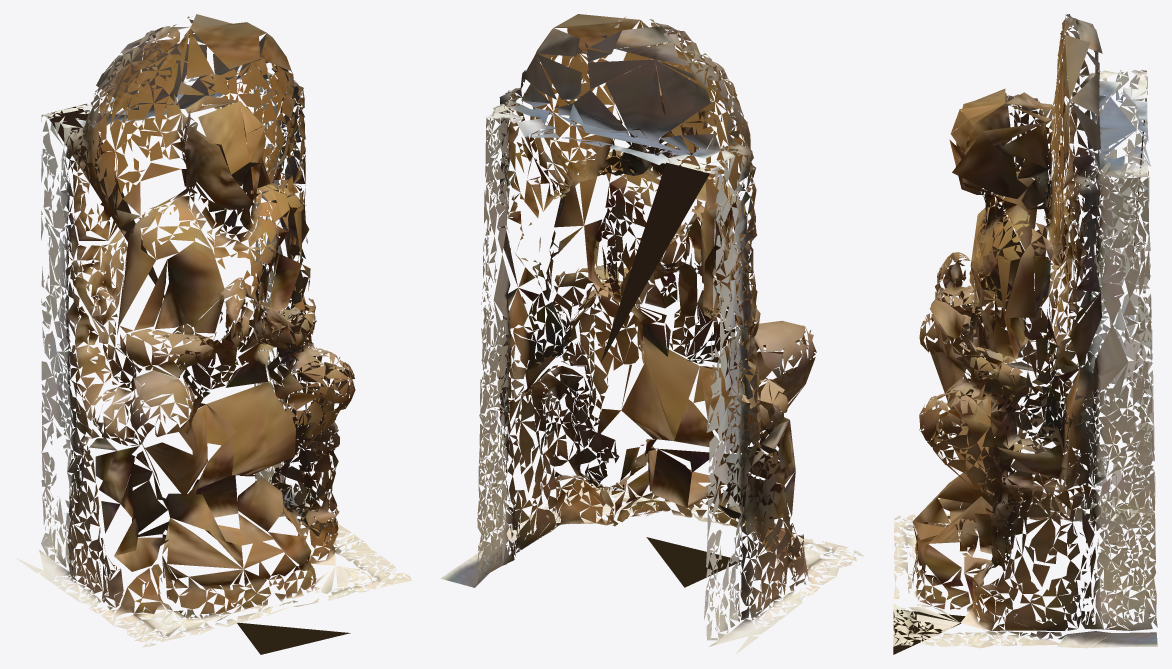
Rendered from far.glb.
3 renders of one model, left to right at view 1: azimuth 30°, elevation 25°; view 2: azimuth 150°, elevation 25°; view 3: azimuth 270°, elevation 25°, orthographic. The views are drawn at different scales.
Visible parts, largest first — view 1: statue-012; view 2: statue-012; view 3: statue-012.
Part boxes in pixels (x1=…): statue-012: x1=14, y1=14, x2=411, y2=654; statue-012: x1=440, y1=14, x2=863, y2=654; statue-012: x1=893, y1=14, x2=1157, y2=654.
Size of the model in its own units: 0.5033 by 0.996 by 0.4067.
1 material, 1 textured.
